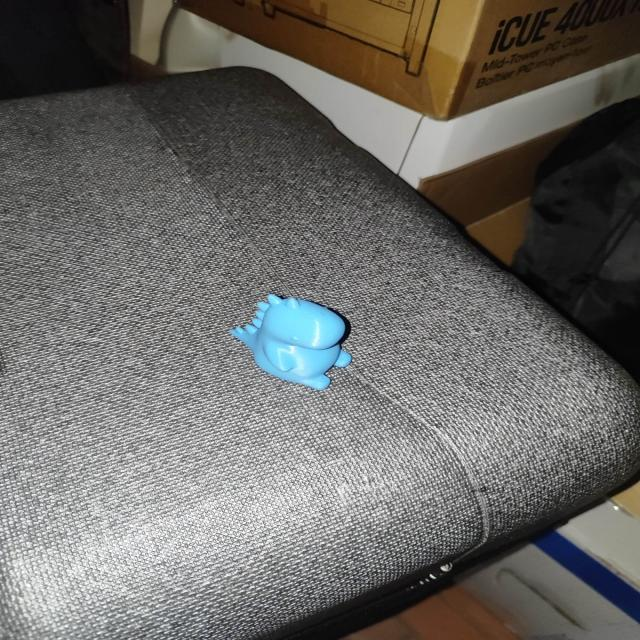DINO: (206, 284, 382, 400)
